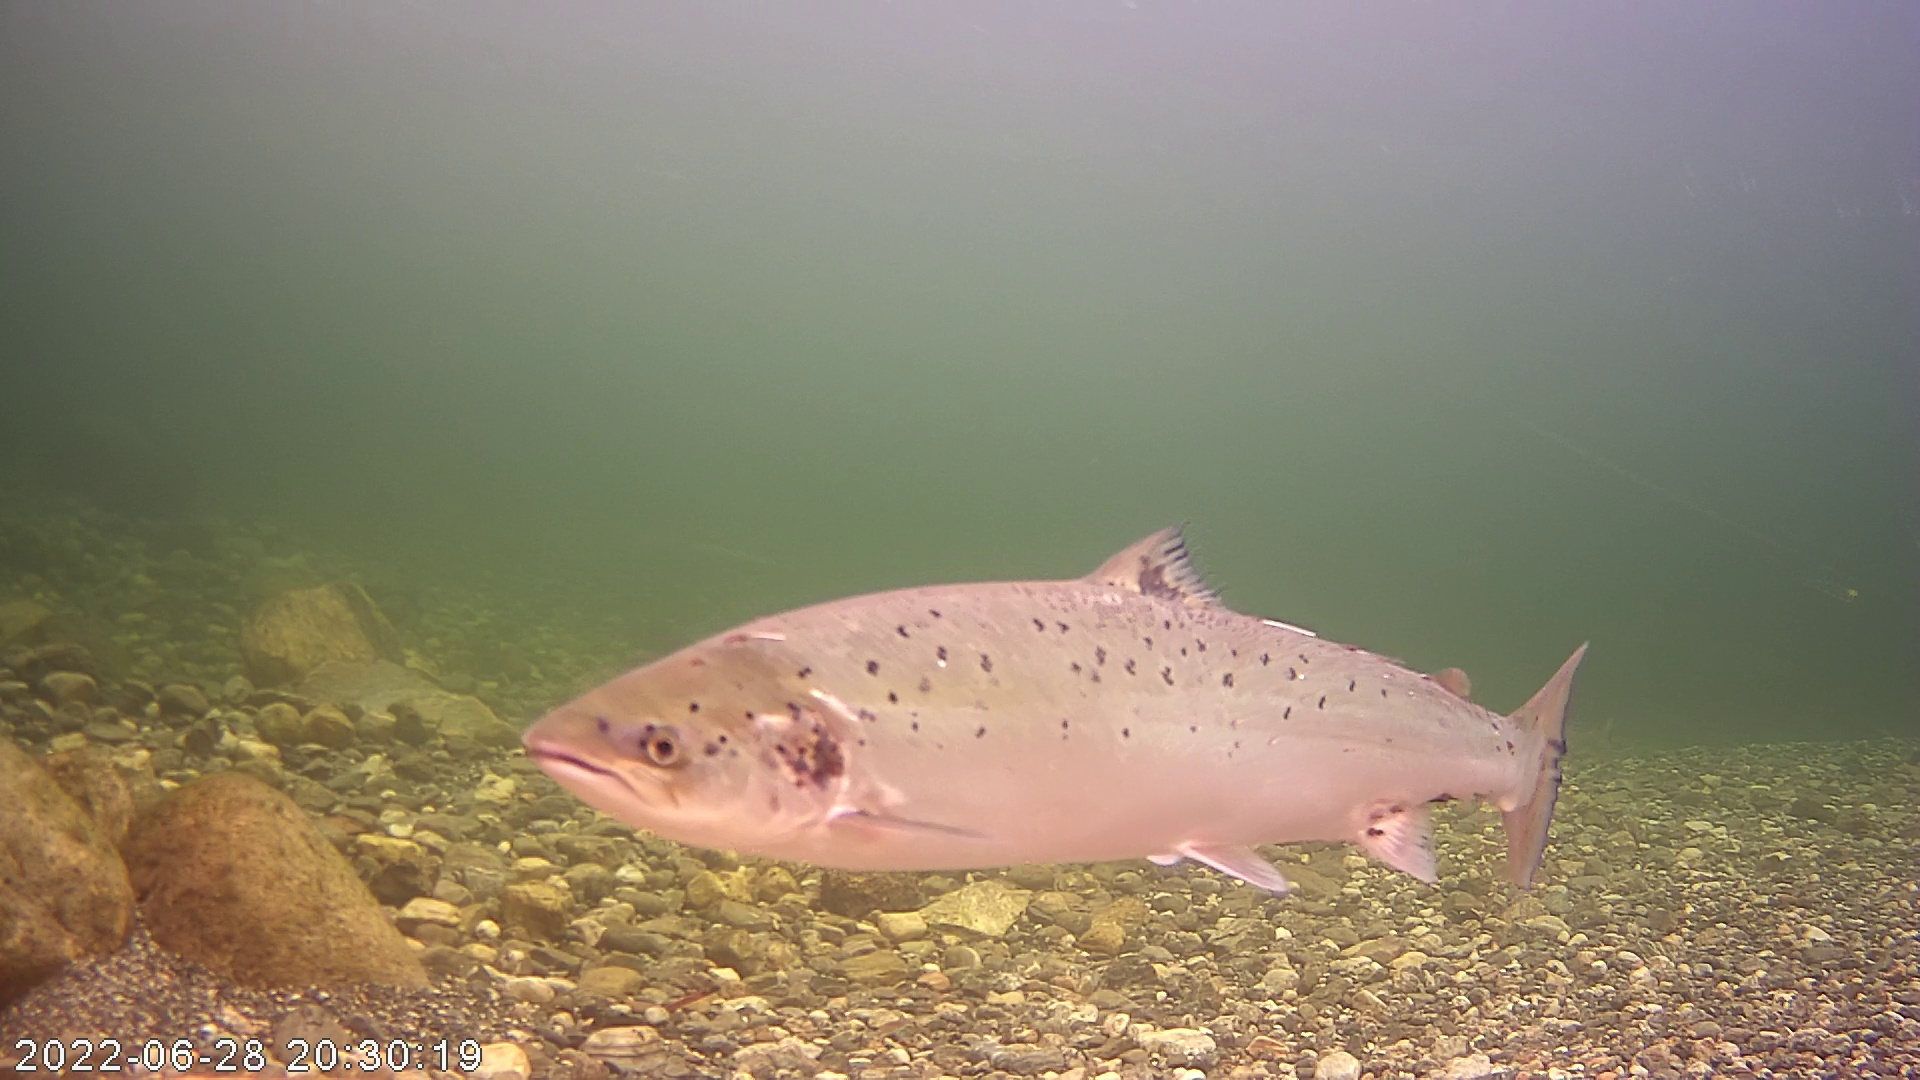salmon: (553, 480, 1597, 895)
